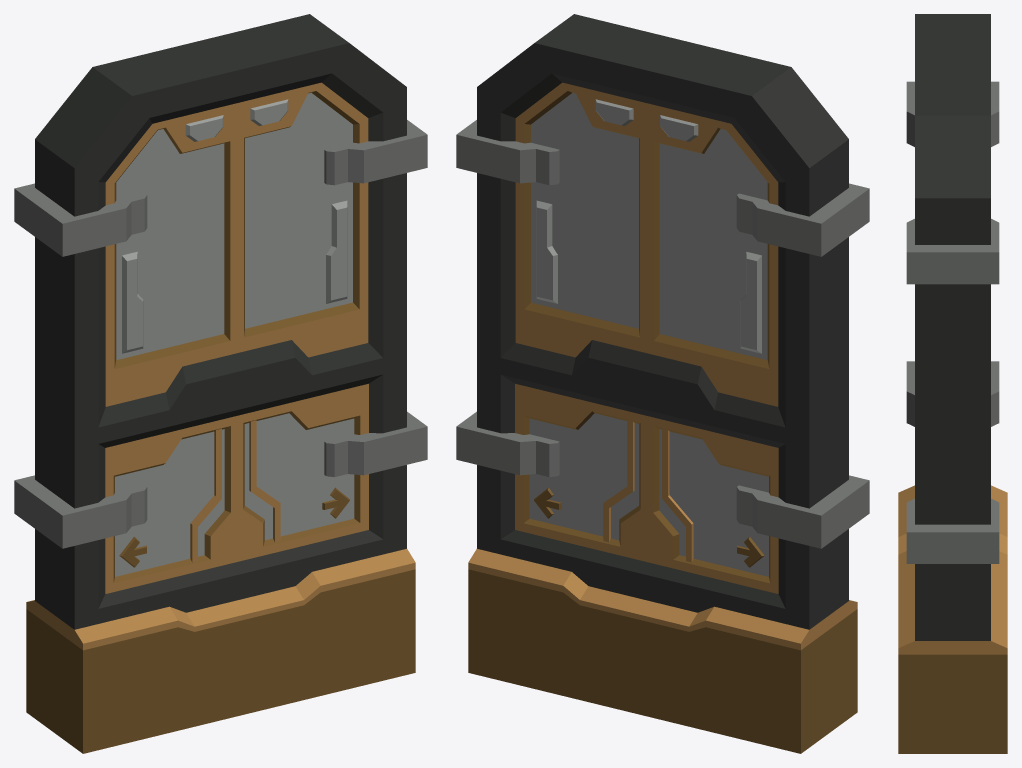
Rendered from quaternius-modular-sci-fi-door-single.glb.
3 renders of one model, left to right at view 1: azimuth 30°, elevation 25°; view 2: azimuth 150°, elevation 25°; view 3: azimuth 270°, elevation 25°, orthographic. The views are drawn at different scales.
Visible parts, largest first — view 1: Door_Single; view 2: Door_Single; view 3: Door_Single.
Boxes of the visible parts, x1=… form: Door_Single: x1=14, y1=14, x2=427, y2=753; Door_Single: x1=456, y1=14, x2=869, y2=753; Door_Single: x1=898, y1=14, x2=1007, y2=753.
Bounding box in the file's own units: 1.67 × 2.79 × 0.4515.
Materials: 1 (1 with a texture image).
